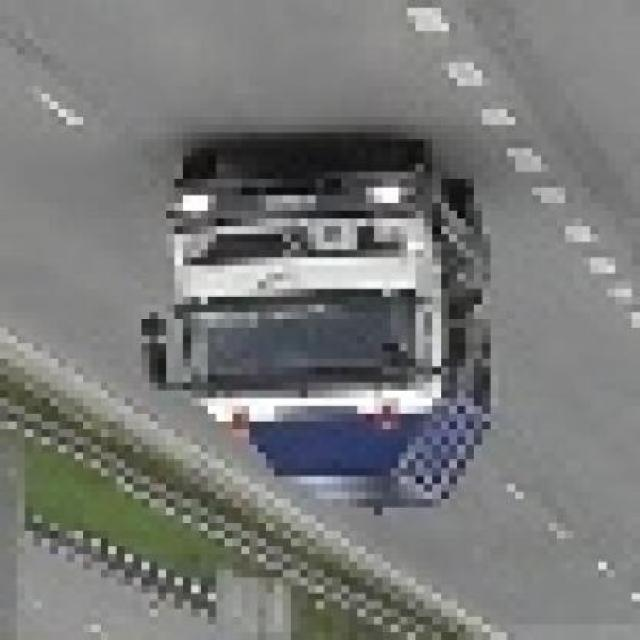truck: (143, 156, 492, 524)
